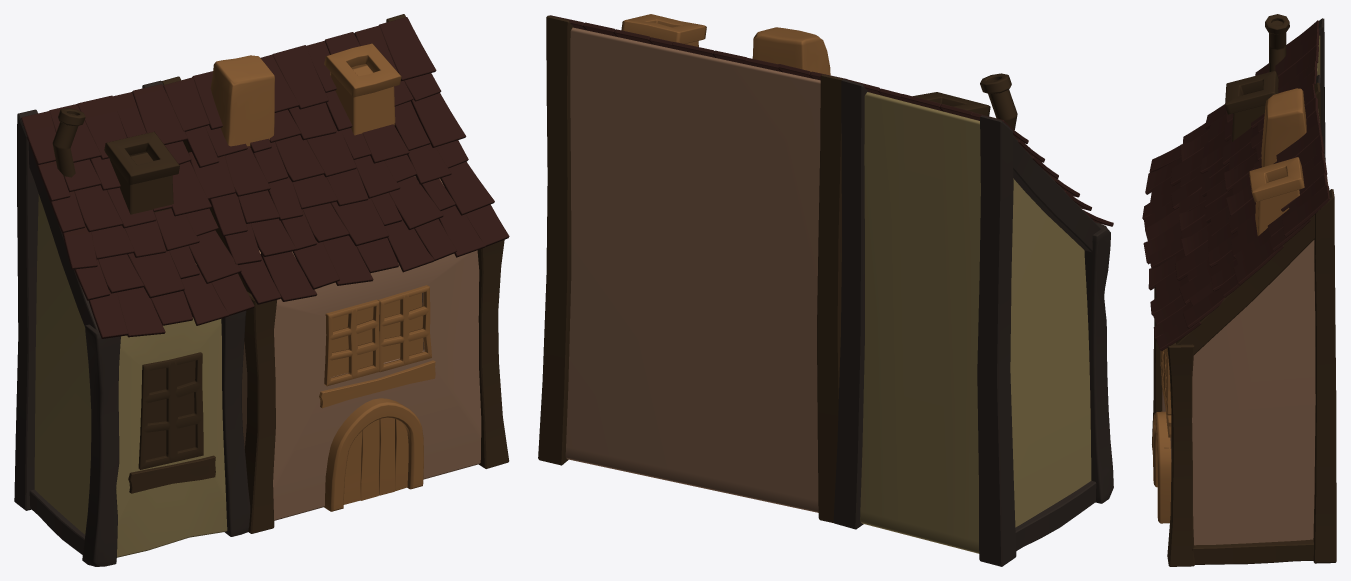
The model's file is P_HouseSixCombined.obj.
3 views of the same model, side by side, from view 1: azimuth 30°, elevation 25°; view 2: azimuth 150°, elevation 25°; view 3: azimuth 270°, elevation 25° (orthographic). The views are drawn at different scales.
Parts seen in each view (by area): view 1: HouseFour2_trim_pCube90; view 2: HouseFour2_trim_pCube90; view 3: HouseFour2_trim_pCube90.
Part boxes in pixels (bbox=[...]): HouseFour2_trim_pCube90: bbox=[14, 14, 509, 566]; HouseFour2_trim_pCube90: bbox=[538, 14, 1113, 566]; HouseFour2_trim_pCube90: bbox=[1142, 14, 1336, 566].
Bounding box in the file's own units: 4.02 × 3.69 × 1.72.
